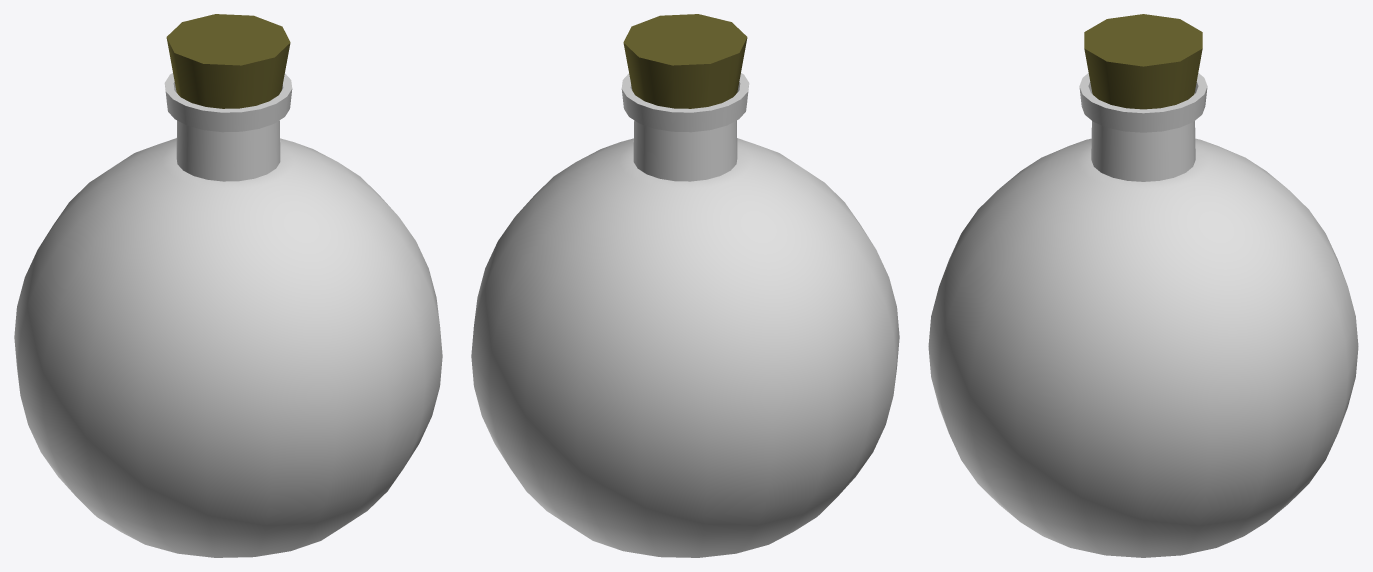
Rendered from potion.fbx.
3 renders of one model, left to right at view 1: azimuth 30°, elevation 25°; view 2: azimuth 150°, elevation 25°; view 3: azimuth 270°, elevation 25°, orthographic.
Parts seen in each view (by area): view 1: pSphere1, pCylinder1; view 2: pSphere1, pCylinder1; view 3: pSphere1, pCylinder1.
Part boxes in pixels (x1=…): pSphere1: x1=14, y1=73, x2=442, y2=557; pCylinder1: x1=166, y1=14, x2=290, y2=108; pSphere1: x1=471, y1=73, x2=899, y2=557; pCylinder1: x1=623, y1=14, x2=747, y2=108; pSphere1: x1=928, y1=73, x2=1358, y2=557; pCylinder1: x1=1084, y1=14, x2=1202, y2=109.
Bounding box in the file's own units: 8.8 × 10.52 × 8.8.
